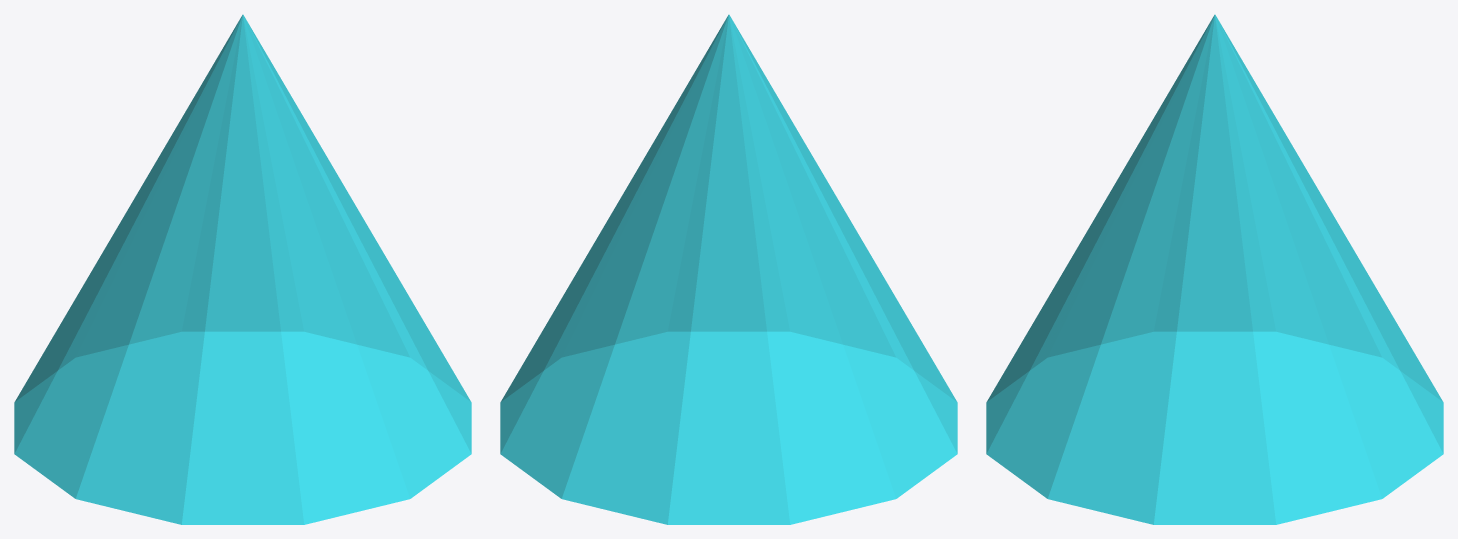
The model's file is direction_arrow.obj.
3 renders of one model, left to right at view 1: azimuth 30°, elevation 25°; view 2: azimuth 150°, elevation 25°; view 3: azimuth 270°, elevation 25°, orthographic.
Parts seen in each view (by area): view 1: cone; view 2: cone; view 3: cone.
Part boxes in pixels (box(x1,y1,x2,y2)): cone: box(14, 14, 471, 524); cone: box(500, 14, 957, 524); cone: box(986, 14, 1443, 524).
Bounding box in the file's own units: 1 × 1 × 1.
